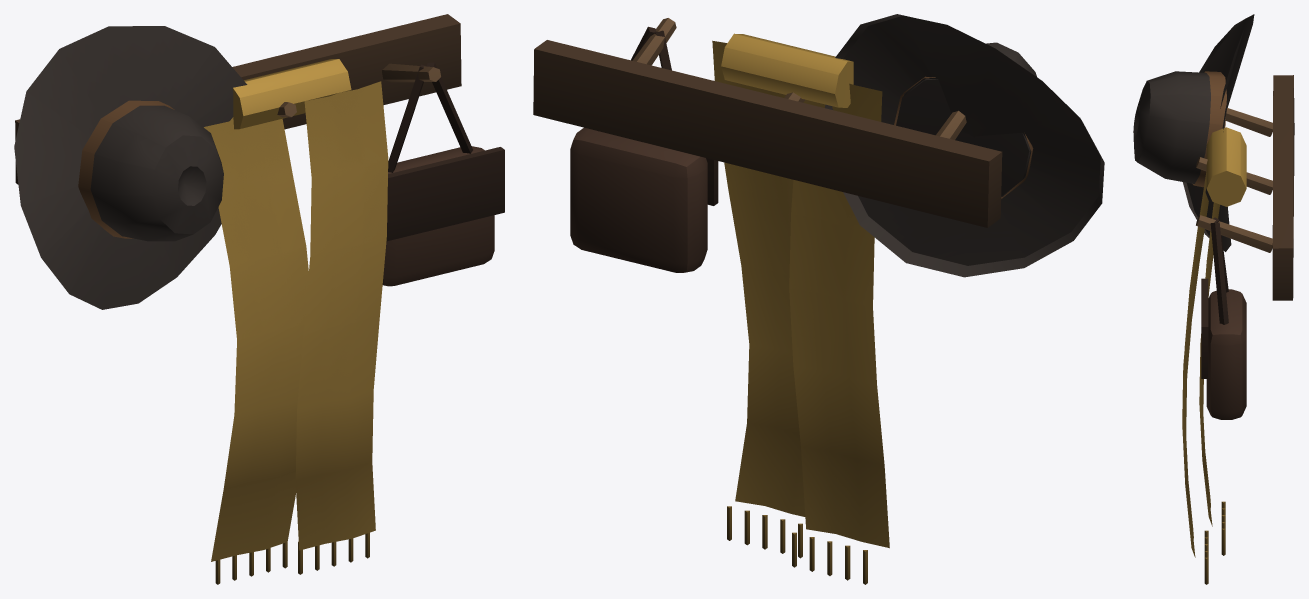
File: ph_int_coat_hook.glb
3 renders of one model, left to right at view 1: azimuth 30°, elevation 25°; view 2: azimuth 150°, elevation 25°; view 3: azimuth 270°, elevation 25°, orthographic. The views are drawn at different scales.
Parts seen in each view (by area): view 1: ph_int_coat_hook; view 2: ph_int_coat_hook; view 3: ph_int_coat_hook.
Boxes of the visible parts, bbox=[...] form: ph_int_coat_hook: bbox=[14, 14, 504, 584]; ph_int_coat_hook: bbox=[533, 14, 1104, 584]; ph_int_coat_hook: bbox=[1133, 14, 1294, 584].
Bounding box in the file's own units: 0.8082 × 0.9015 × 0.2818.
